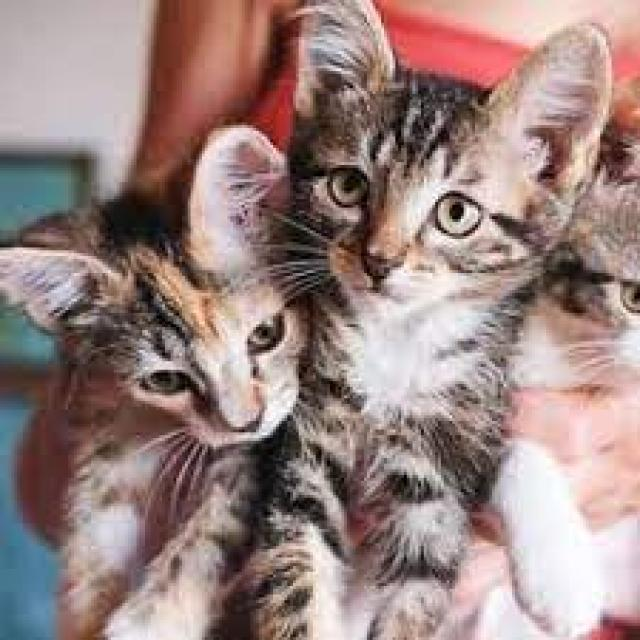Cat: (244, 1, 616, 639), (3, 121, 309, 452), (543, 162, 640, 370)
